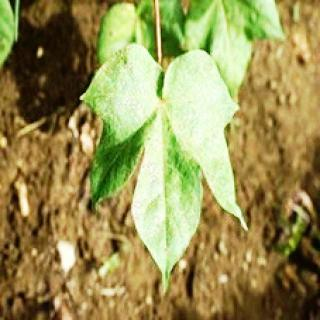grey mildew: (82, 44, 246, 267)
